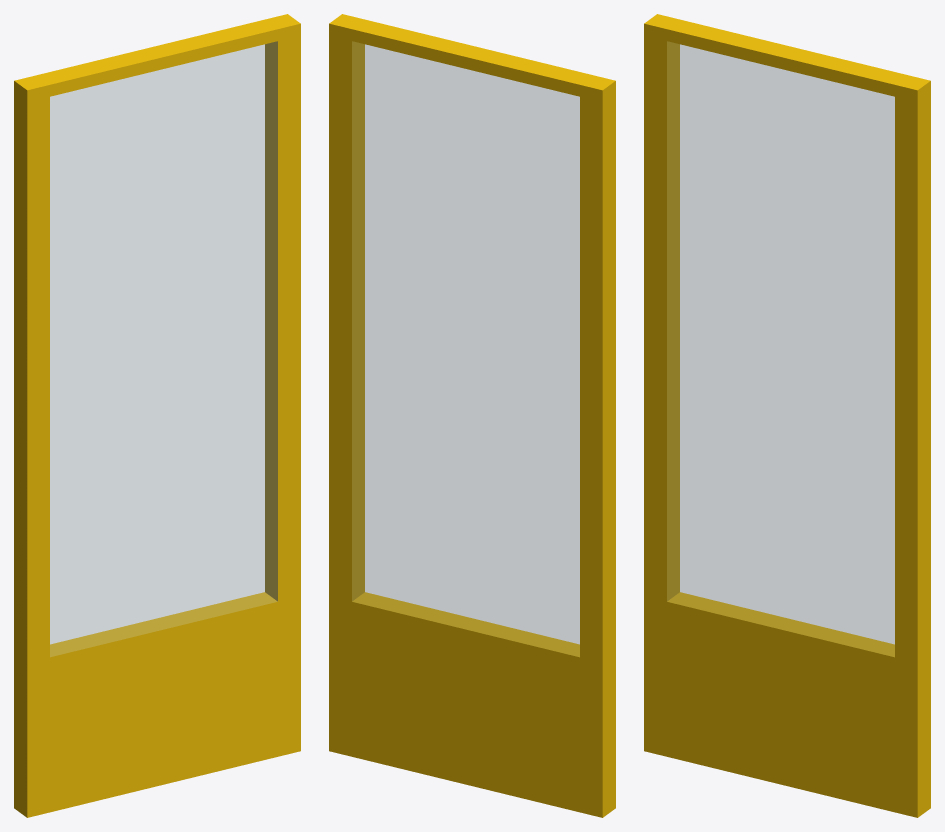
Rendered from school_bus_door.glb.
The picture shows the model from 3 angles, left to right: view 1: azimuth 30°, elevation 25°; view 2: azimuth 150°, elevation 25°; view 3: azimuth 330°, elevation 25°; orthographic projection.
Parts seen in each view (by area): view 1: body:compound; view 2: body:compound; view 3: body:compound.
Part boxes in pixels (x1,y1,x2,y2): body:compound: (14,14,300,817); body:compound: (329,14,615,817); body:compound: (644,14,930,817).
Bounding box in the file's own units: 0.75 × 1.91 × 0.0625.
